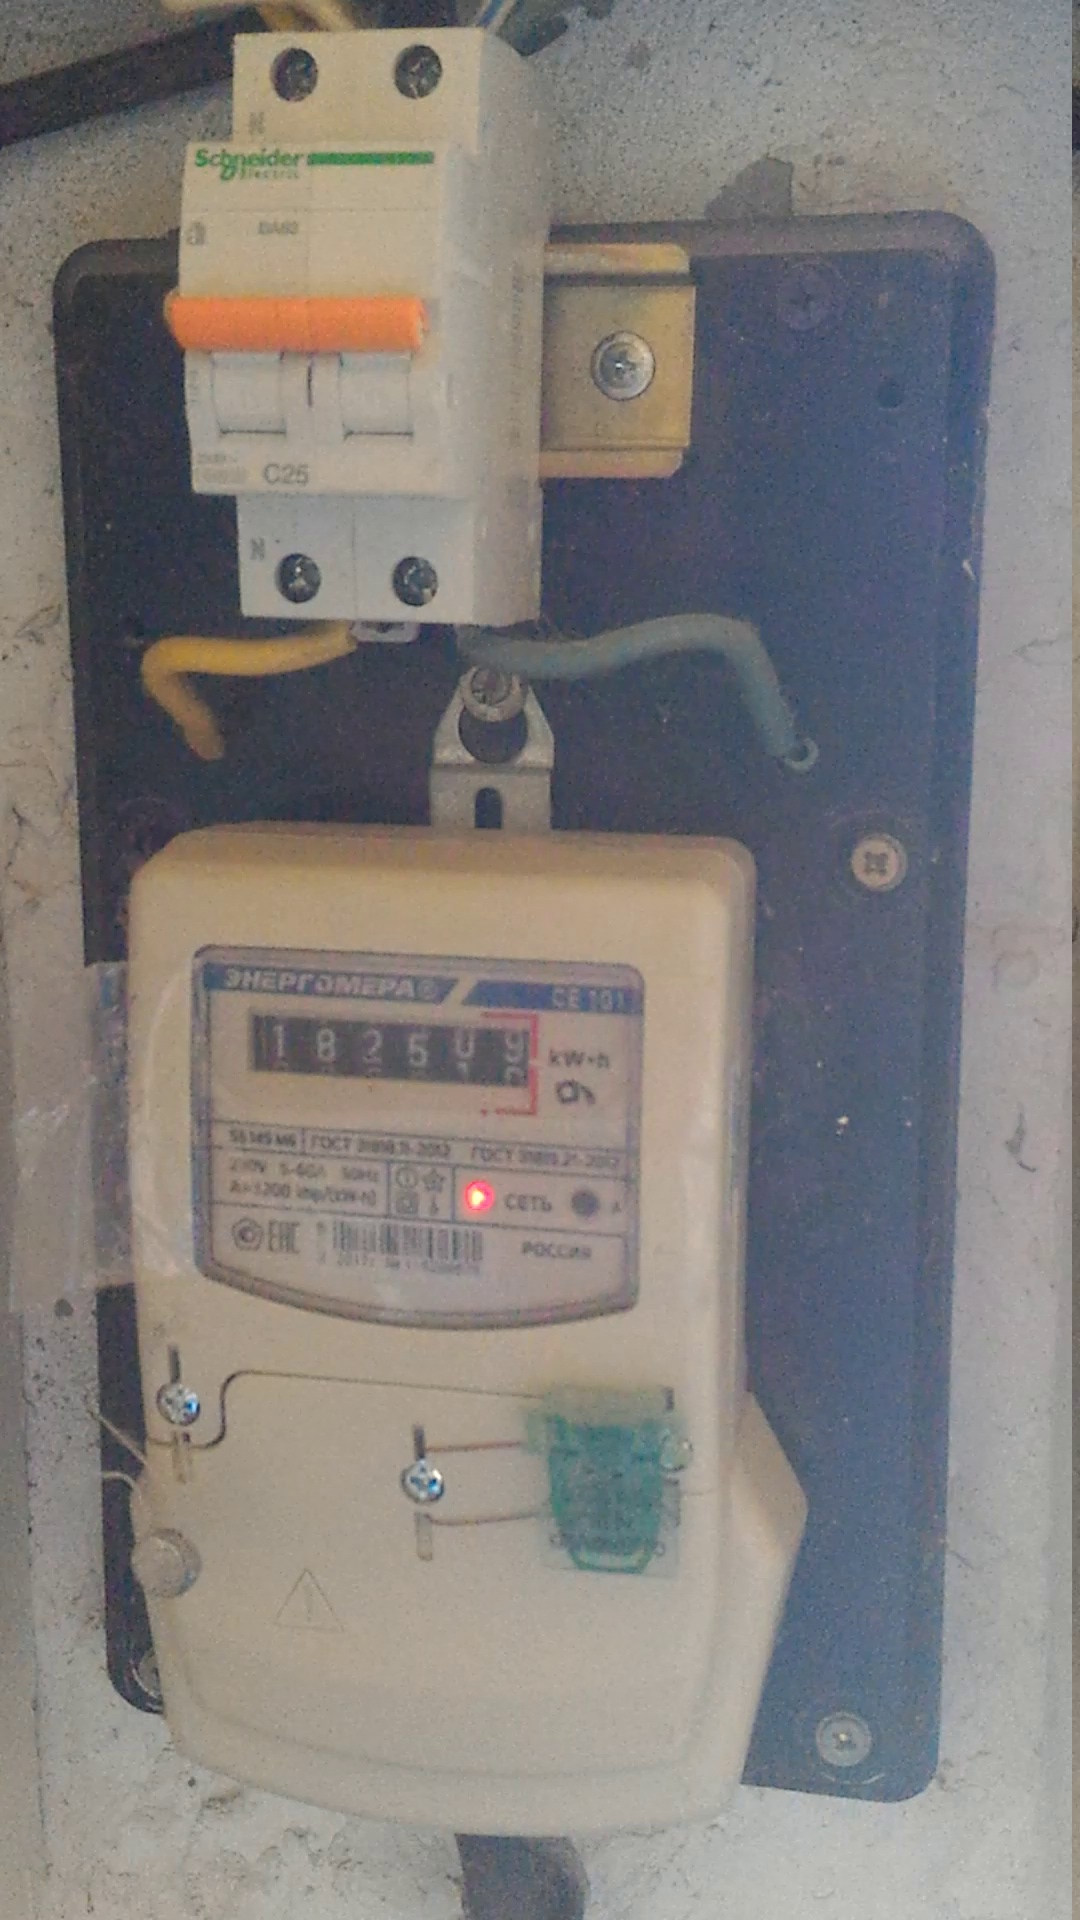counter: (124, 880, 742, 1811)
counter_screen: (248, 1011, 537, 1092)
